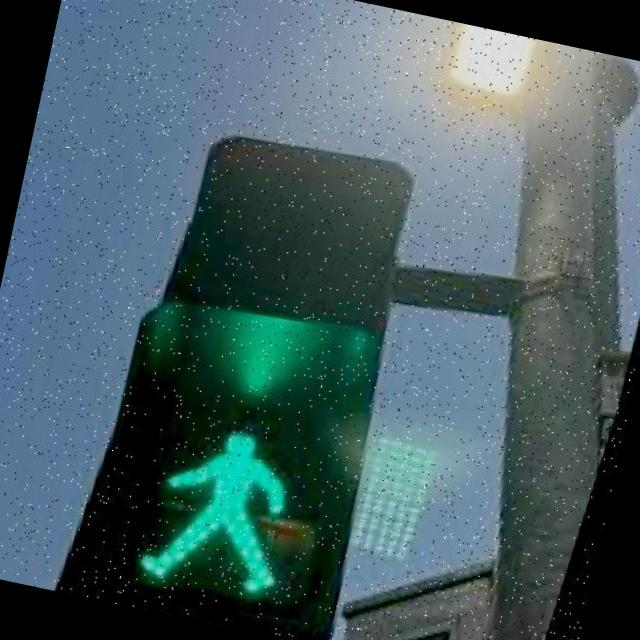green_light: (114, 389, 356, 630)
